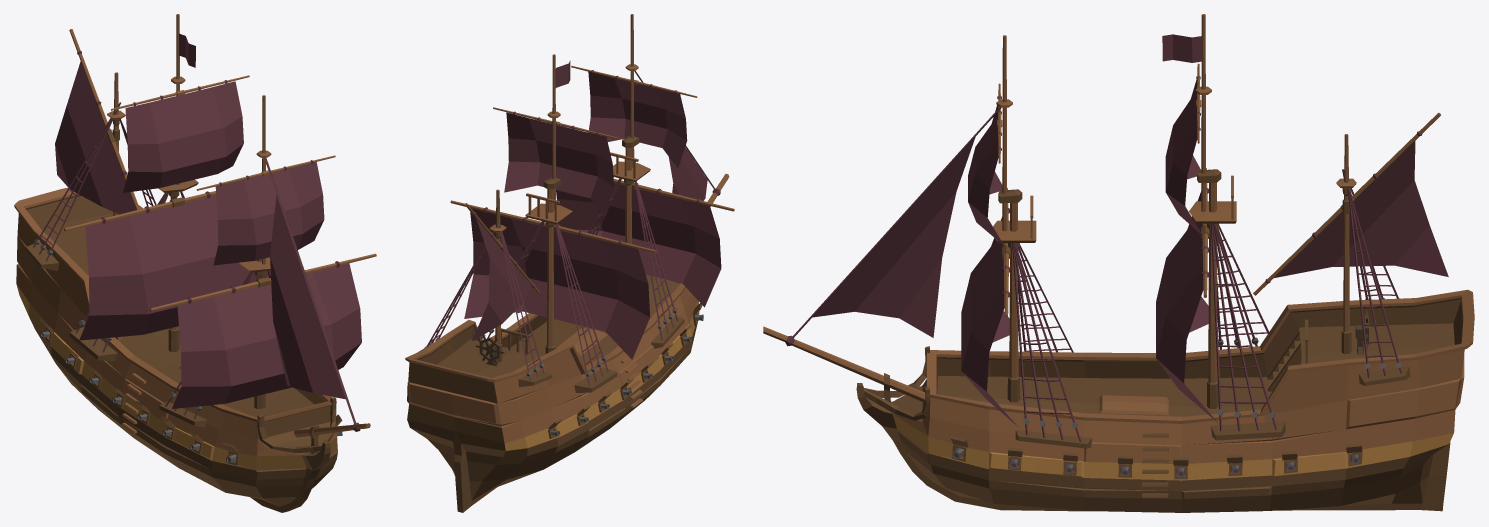
Rendered from ship-colonial-small-flags.fbx.
3 renders of one model, left to right at view 1: azimuth 30°, elevation 25°; view 2: azimuth 150°, elevation 25°; view 3: azimuth 270°, elevation 25°, orthographic. The views are drawn at different scales.
Parts seen in each view (by area): view 1: ship-colonial-small-flags; view 2: ship-colonial-small-flags; view 3: ship-colonial-small-flags.
Part boxes in pixels (bbox=[...]): ship-colonial-small-flags: bbox=[14, 14, 376, 512]; ship-colonial-small-flags: bbox=[405, 14, 734, 512]; ship-colonial-small-flags: bbox=[763, 14, 1474, 512].
Size of the model in its own units: 12.22 by 22.17 by 28.88.
